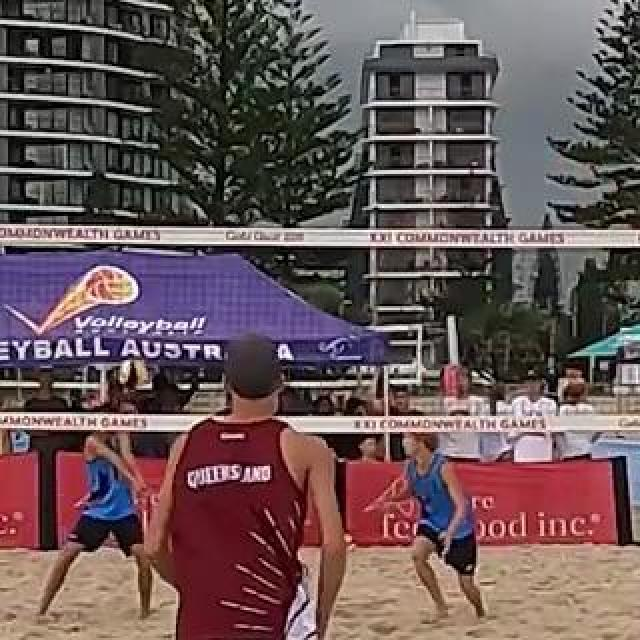volleyball: (121, 356, 149, 386)
